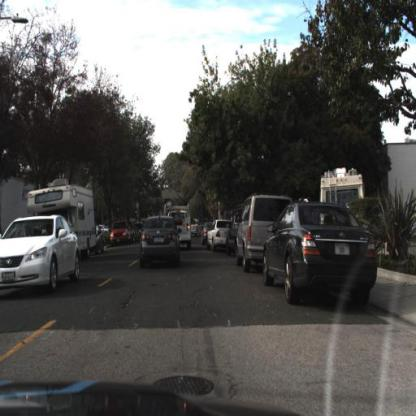car: (262, 198, 376, 314), (0, 213, 82, 295), (233, 192, 295, 274), (26, 182, 99, 250), (321, 166, 366, 214), (138, 211, 181, 260), (162, 196, 192, 252), (225, 204, 241, 263), (208, 216, 233, 249), (108, 220, 132, 249)
truck: (39, 189, 98, 261), (0, 164, 32, 230), (319, 166, 366, 206), (160, 205, 193, 259)
